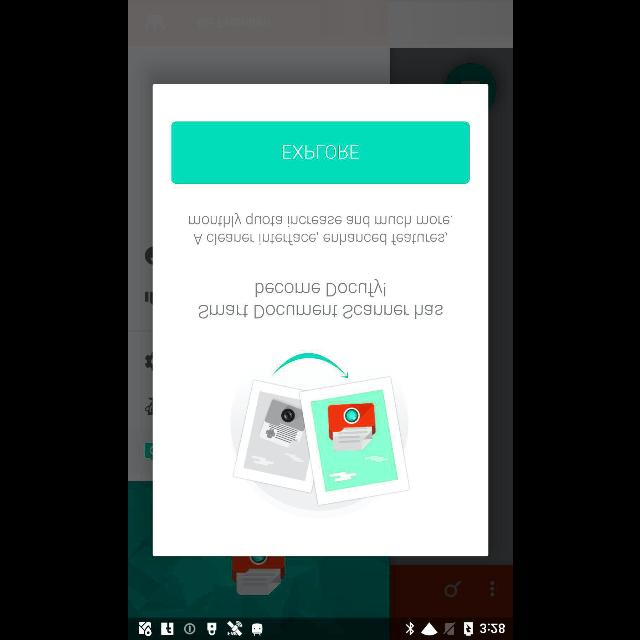image: (231, 354, 409, 518)
panel: (152, 84, 488, 556)
text: (196, 279, 442, 319), (188, 212, 452, 245)
textbutton: (171, 122, 469, 184)
uppertaskbar: (128, 617, 512, 639)
